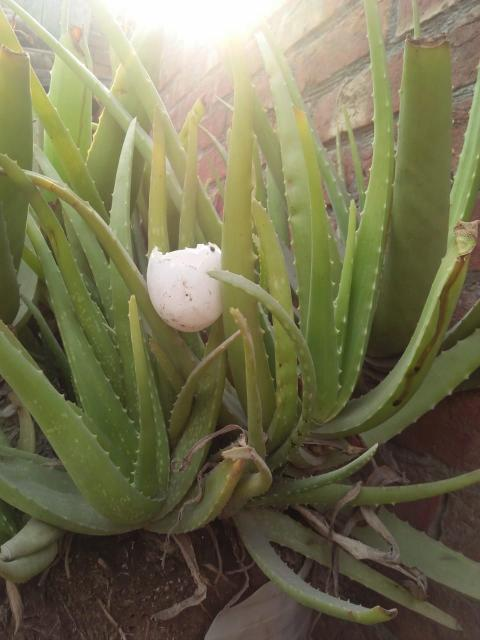Roto: (145, 241, 224, 332)
